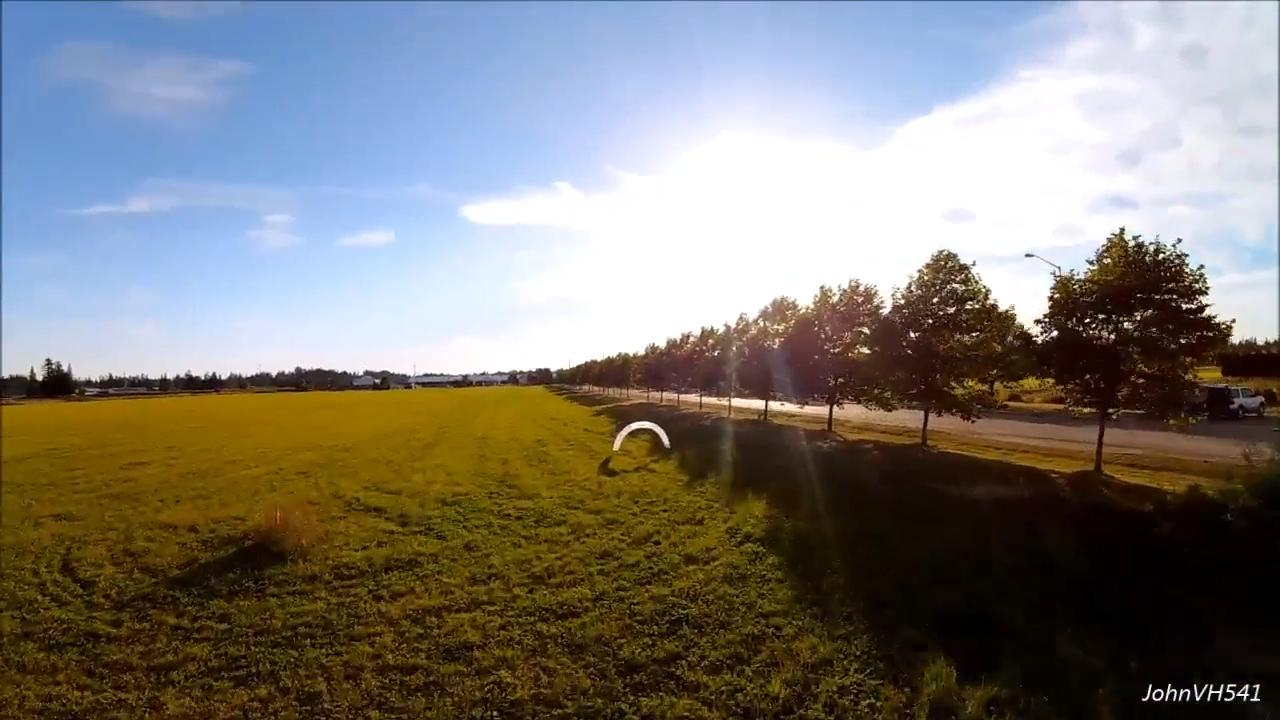gate: (610, 421, 674, 455)
